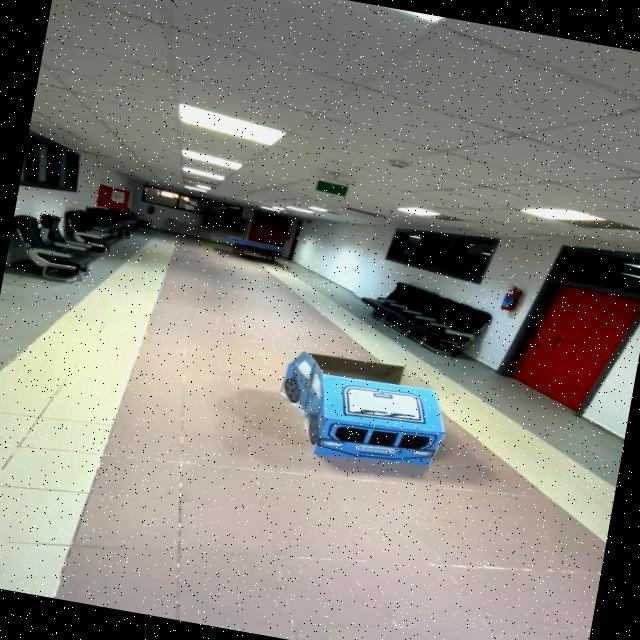blue_car: (255, 328, 489, 498)
